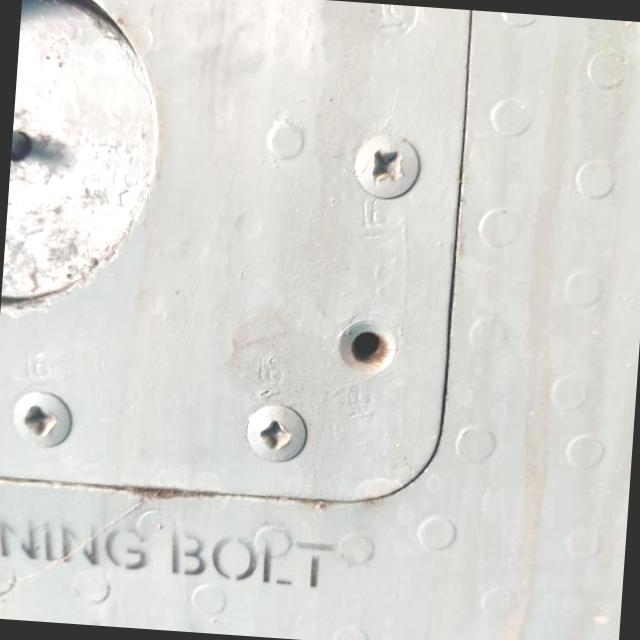Missing Fastener: (322, 310, 401, 384)
